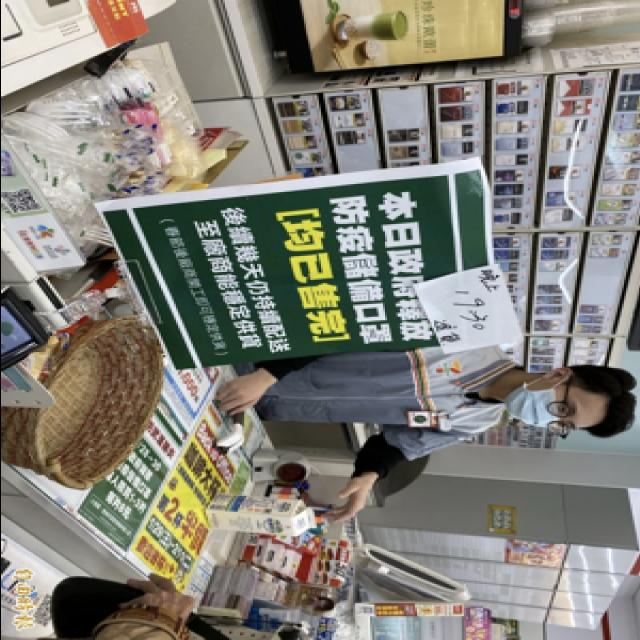mask: (506, 378, 582, 432)
